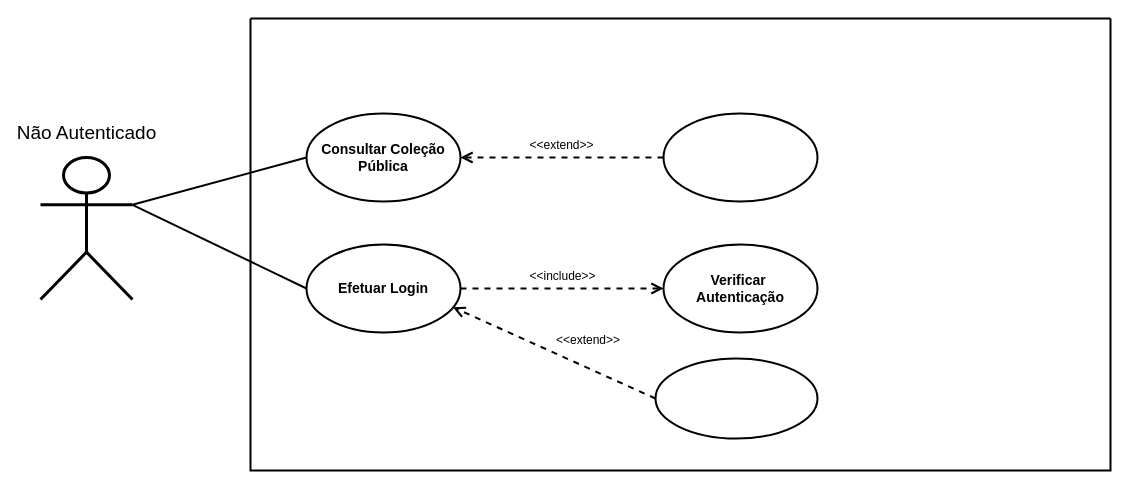
This 1129x488 diagram has some shape labels left out. Here are the shapes that lost their labels. From the top down, the centre of each, then its label:
[740,157]: Visualizar Ficha Técnica
[736,398]: Recuperar Palavra Pass
